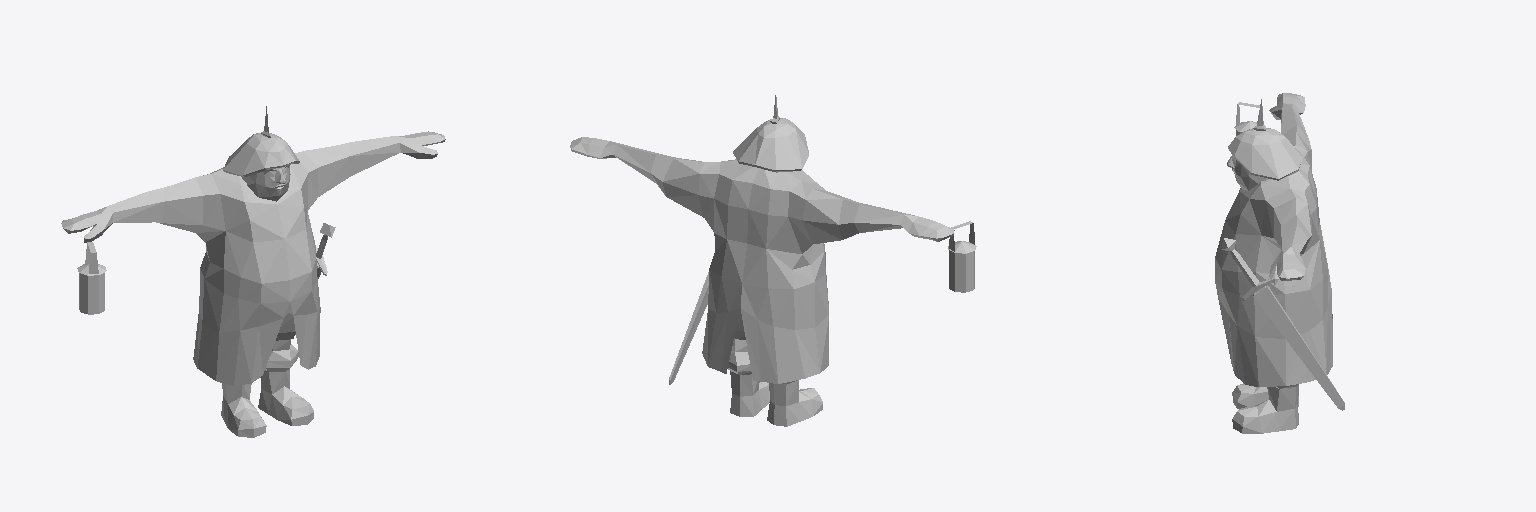
File: boblampclean.obj
The picture shows the model from 3 angles: view 1: azimuth 30°, elevation 25°; view 2: azimuth 150°, elevation 25°; view 3: azimuth 270°, elevation 25°; orthographic projection.
Parts seen in each view (by area): view 1: <MD5_Mesh>; view 2: <MD5_Mesh>; view 3: <MD5_Mesh>.
Boxes of the visible parts, x1=… form: <MD5_Mesh>: x1=61, y1=106, x2=445, y2=437; <MD5_Mesh>: x1=570, y1=95, x2=976, y2=426; <MD5_Mesh>: x1=1215, y1=93, x2=1344, y2=433.
Bounding box in the file's own units: 85.08 × 67.06 × 25.1.